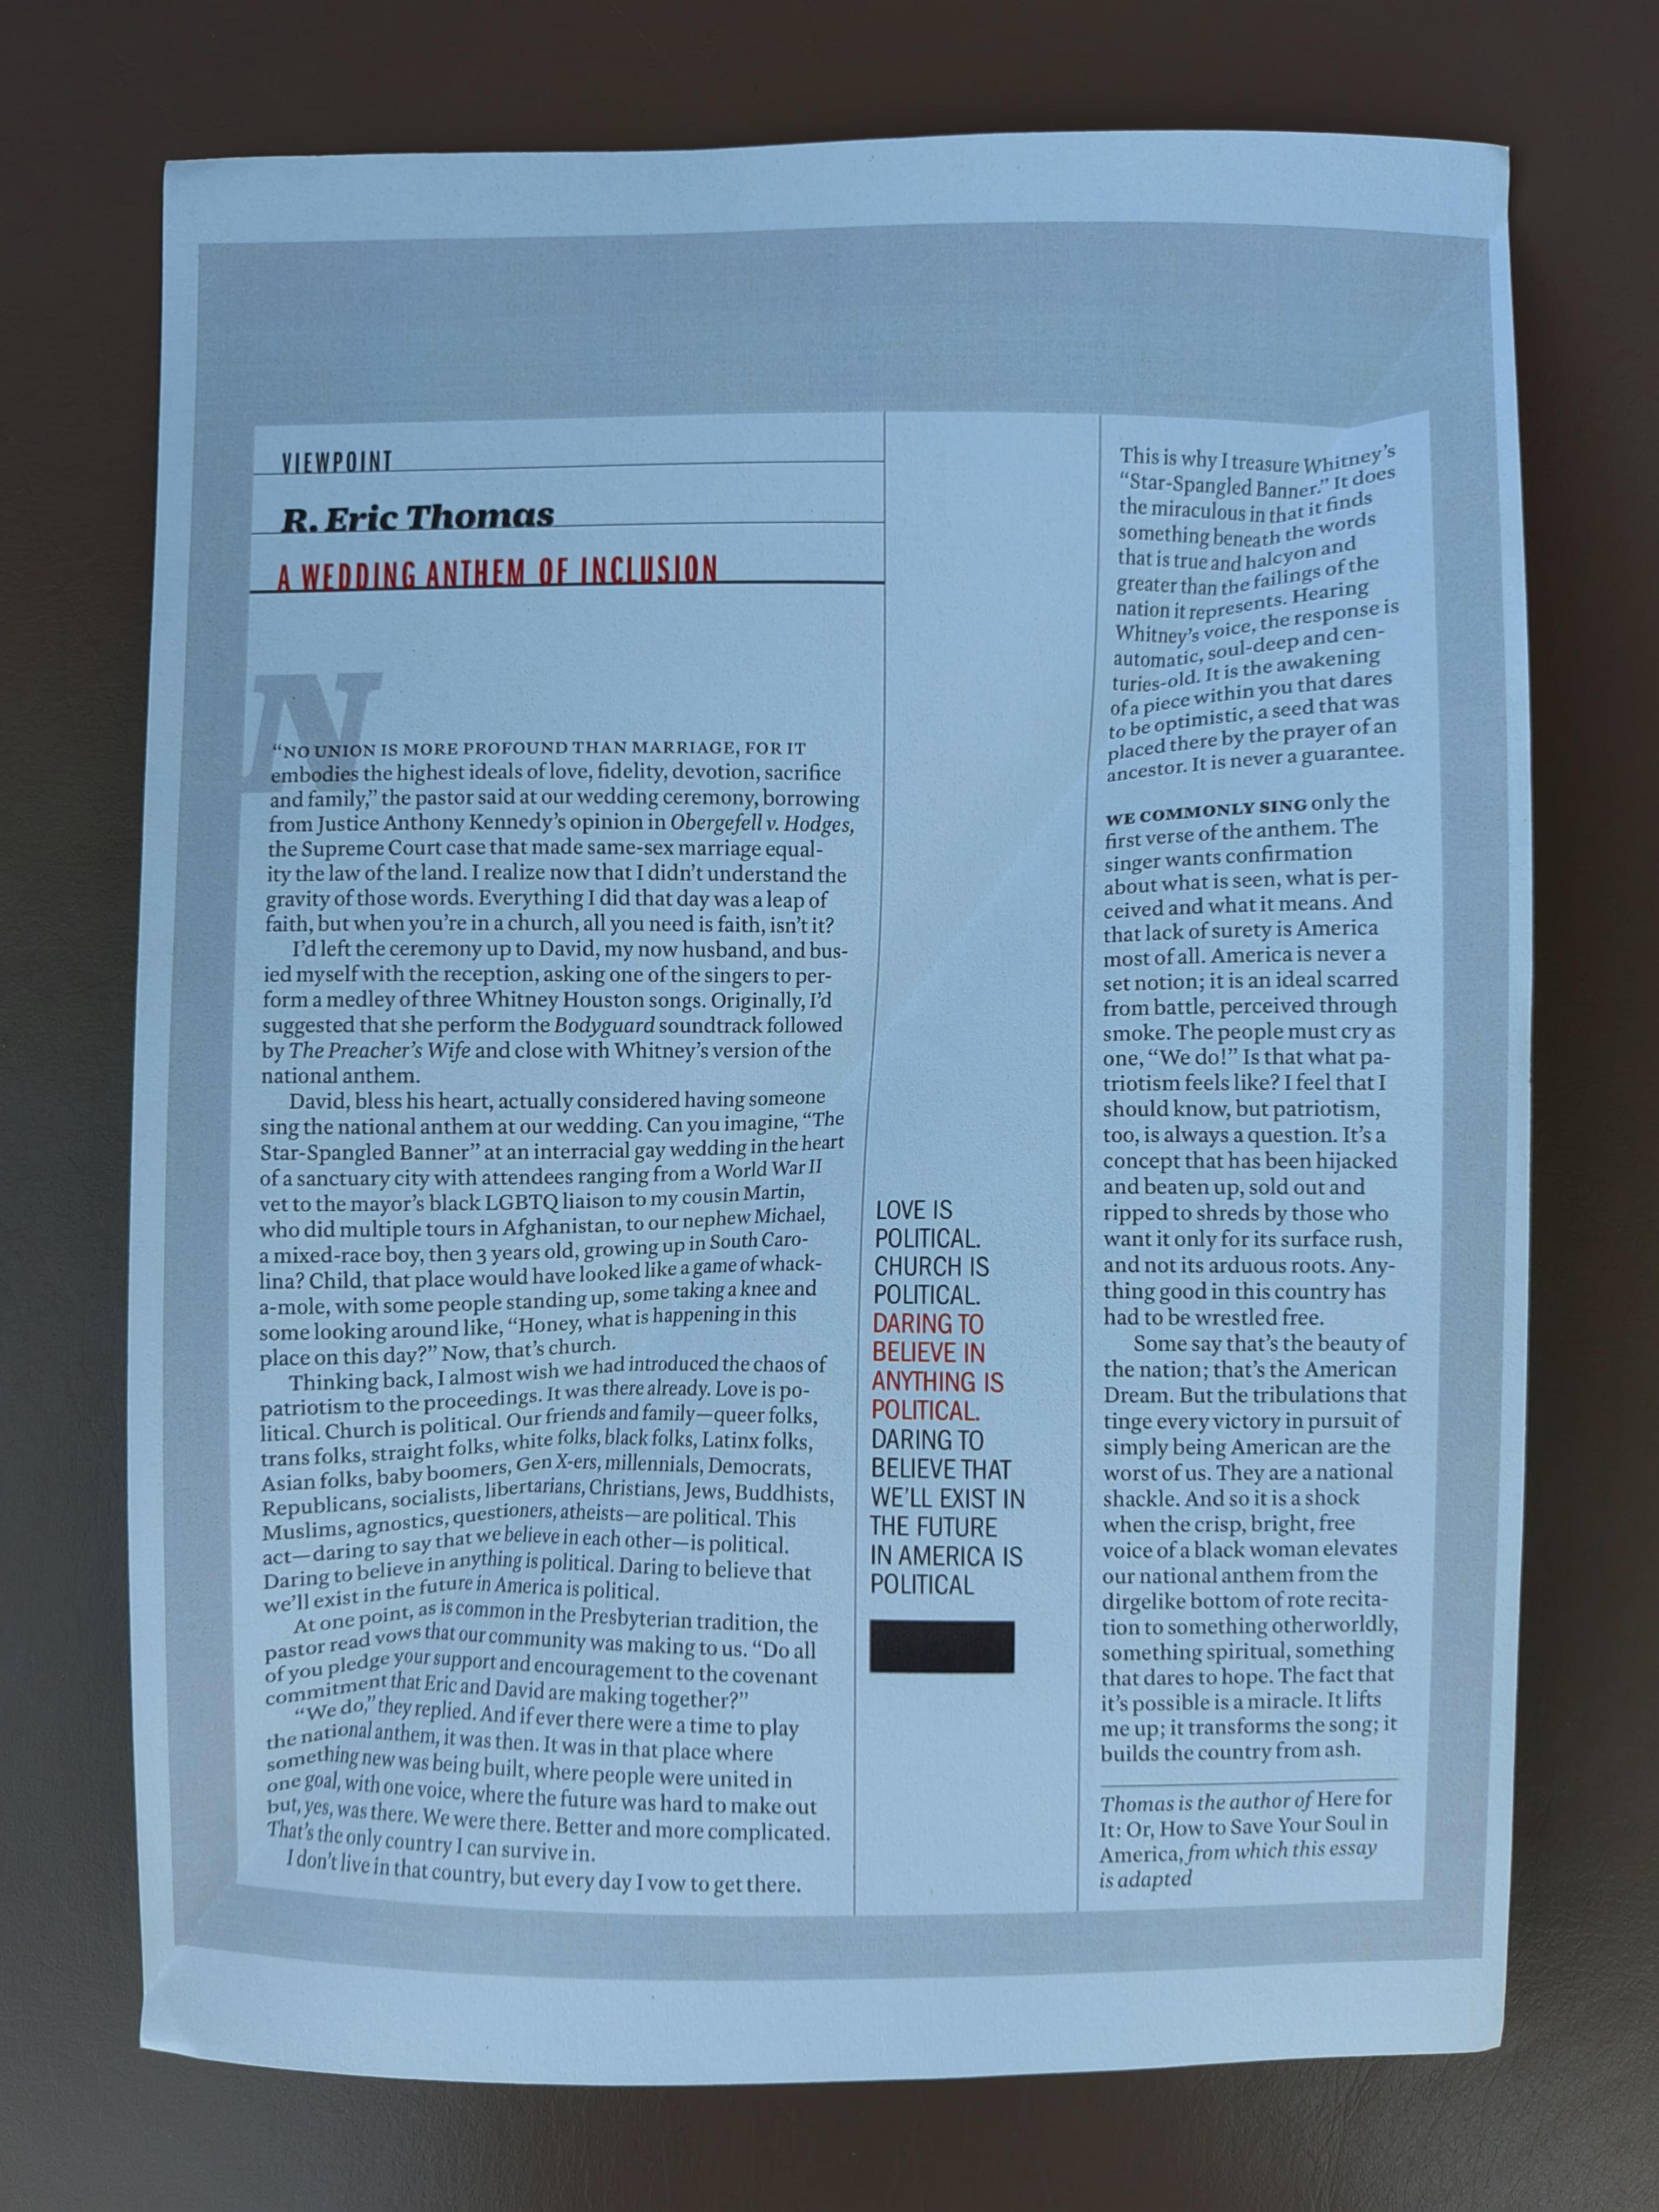paper: (202, 197, 1530, 2111)
